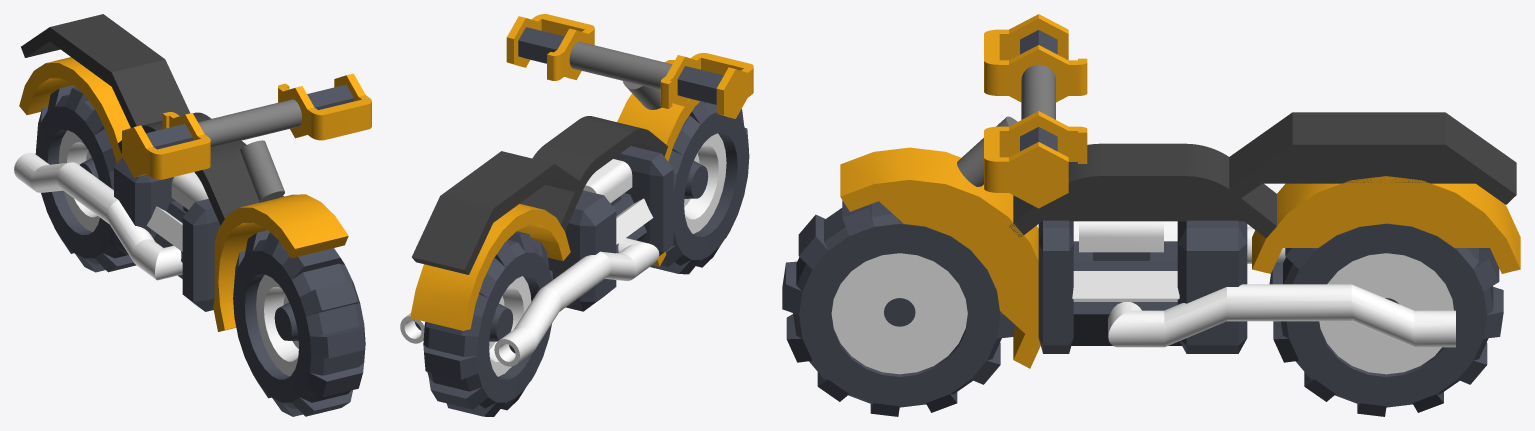
File: Motorbike_01.fbx
The picture shows the model from 3 angles, left to right: view 1: azimuth 30°, elevation 25°; view 2: azimuth 150°, elevation 25°; view 3: azimuth 270°, elevation 25°; orthographic projection. The views are drawn at different scales.
Visible parts, largest first — view 1: wheel_dirt_54, wheel_dirt_53, detail_fenderSquare_64, detail_fender_56, detail_exhaust_63, hilt_handle_guard_68, hilt_handle_guard_69, detail_fender_55, block_rounded_61, detail_fenderRounded_65, cylinder_full_66, block_rounded_60 (+2 smaller); view 2: wheel_dirt_53, wheel_dirt_54, detail_fenderSquare_64, detail_fender_55, detail_exhaust_63, detail_fenderRounded_65, hilt_handle_guard_68, hilt_handle_guard_69, block_rounded_60, block_rounded_61, detail_engine_57, cylinder_full_66 (+3 smaller); view 3: wheel_dirt_54, wheel_dirt_53, detail_fenderSquare_64, detail_fender_56, detail_fenderRounded_65, detail_fender_55, detail_exhaust_62, detail_engine_57, hilt_handle_guard_69, block_rounded_60, hilt_handle_guard_68, block_rounded_61 (+2 smaller).
Part boxes in pixels (left/top/right/bottom): wheel_dirt_54: left=233, top=230, right=365, bottom=416; wheel_dirt_53: left=35, top=85, right=136, bottom=272; detail_fenderSquare_64: left=21, top=14, right=189, bottom=127; detail_fender_56: left=213, top=194, right=348, bottom=331; detail_exhaust_63: left=14, top=152, right=182, bottom=280; hilt_handle_guard_68: left=122, top=112, right=210, bottom=179; hilt_handle_guard_69: left=278, top=73, right=371, bottom=140; detail_fender_55: left=19, top=57, right=130, bottom=163; block_rounded_61: left=182, top=195, right=283, bottom=311; detail_fenderRounded_65: left=118, top=112, right=258, bottom=225; cylinder_full_66: left=198, top=99, right=301, bottom=147; block_rounded_60: left=114, top=157, right=175, bottom=256; wheel_dirt_53: left=423, top=231, right=552, bottom=416; wheel_dirt_54: left=650, top=101, right=749, bottom=274; detail_fenderSquare_64: left=412, top=151, right=582, bottom=274; detail_fender_55: left=410, top=203, right=570, bottom=330; detail_exhaust_63: left=494, top=238, right=659, bottom=366; detail_fenderRounded_65: left=520, top=116, right=667, bottom=230; hilt_handle_guard_68: left=660, top=53, right=753, bottom=118; hilt_handle_guard_69: left=506, top=14, right=594, bottom=80; block_rounded_60: left=548, top=190, right=616, bottom=311; block_rounded_61: left=613, top=146, right=673, bottom=255; detail_engine_57: left=583, top=159, right=653, bottom=253; cylinder_full_66: left=569, top=41, right=672, bottom=89; wheel_dirt_54: left=782, top=200, right=1014, bottom=416; wheel_dirt_53: left=1269, top=223, right=1503, bottom=416; detail_fenderSquare_64: left=1221, top=112, right=1516, bottom=204; detail_fender_56: left=840, top=147, right=1040, bottom=368; detail_fenderRounded_65: left=1009, top=143, right=1276, bottom=237; detail_fender_55: left=1252, top=176, right=1520, bottom=273; detail_exhaust_62: left=1108, top=284, right=1455, bottom=347; detail_engine_57: left=1071, top=221, right=1181, bottom=345; hilt_handle_guard_69: left=984, top=111, right=1087, bottom=208; block_rounded_60: left=1177, top=220, right=1247, bottom=353; hilt_handle_guard_68: left=984, top=14, right=1087, bottom=102; block_rounded_61: left=1038, top=220, right=1073, bottom=353.
Size of the model in its own units: 9 by 10.37 by 21.24.
